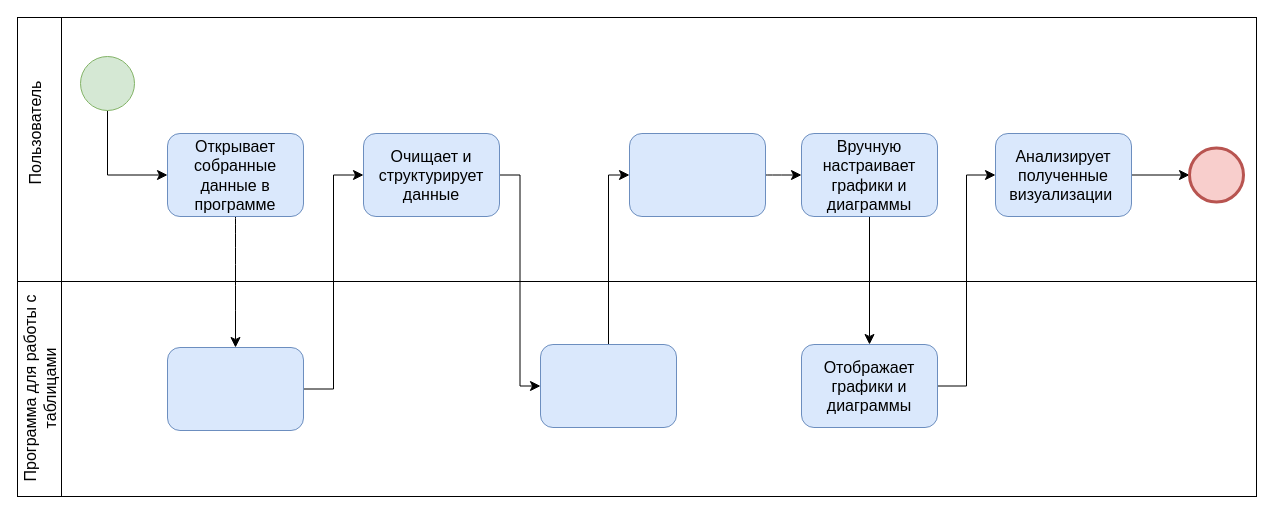
Image size: 1274x514. Some labels were removed from this diagram. The shapes that lost their labels are listed below. From the top down, each one's centre as x and y in pixels, then its label:
At (697,174): "Проводит начальный анализ данных".
At (235,388): "Предоставляет доступ к данным в таблицах".
At (608,386): "Предоставляет сводную таблицу".
